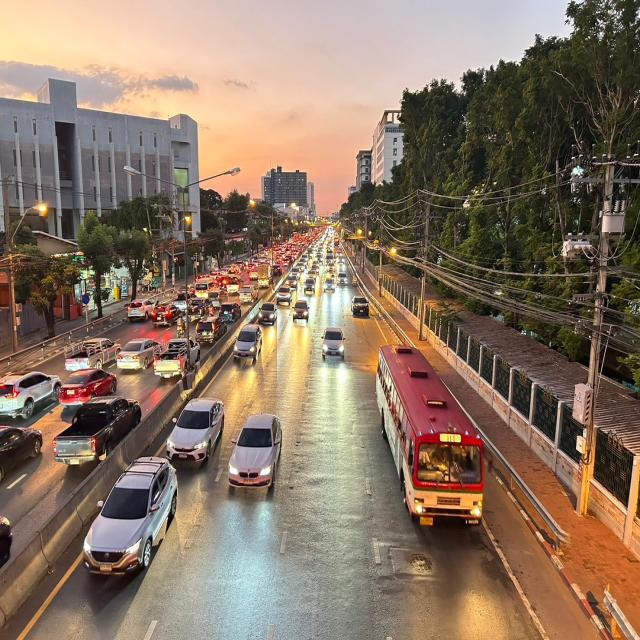bus: (373, 338, 488, 541)
